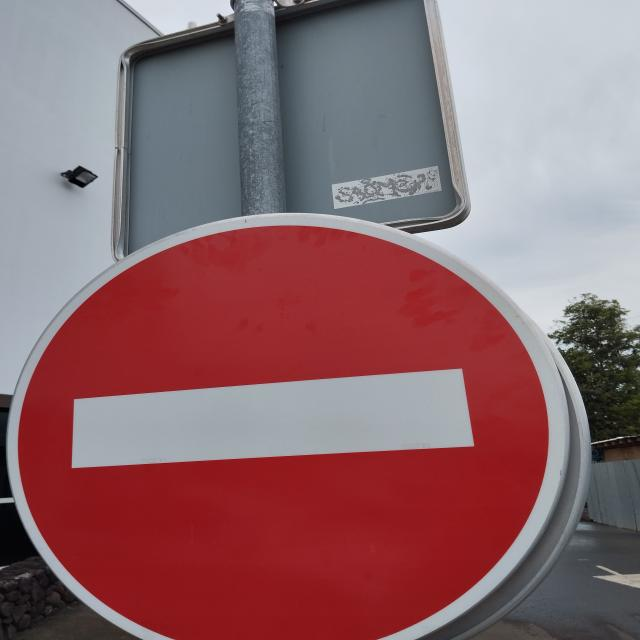Sens-Interdit: (8, 213, 571, 640)
